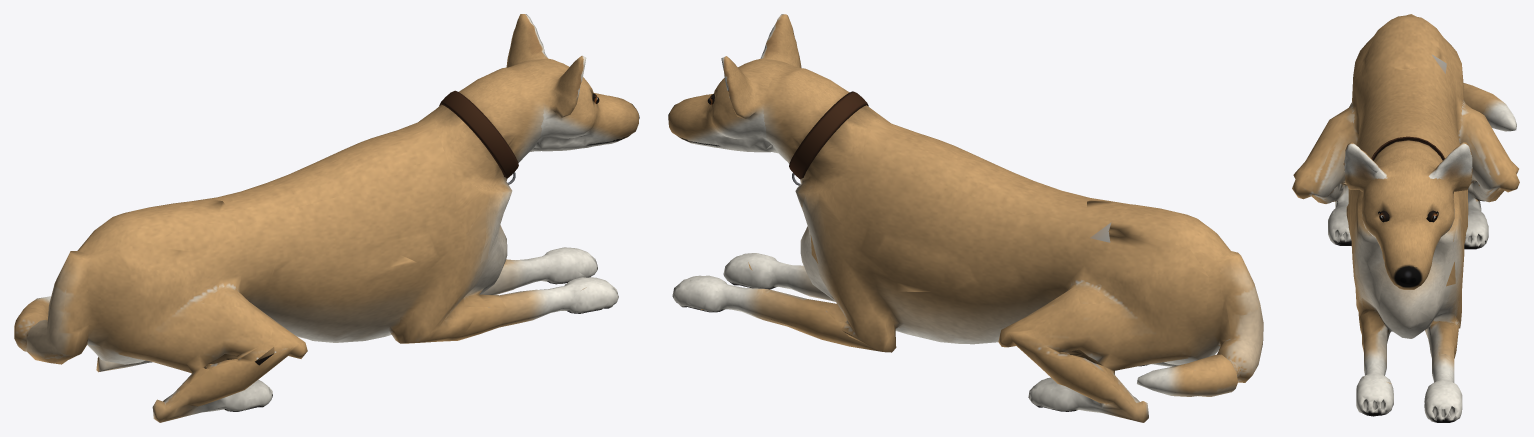
Rendered from dog_lie.glb.
The picture shows the model from 3 angles, left to right: view 1: azimuth 30°, elevation 25°; view 2: azimuth 150°, elevation 25°; view 3: azimuth 270°, elevation 25°; orthographic projection. The views are drawn at different scales.
Visible parts, largest first — view 1: dog_lie_mesh; view 2: dog_lie_mesh; view 3: dog_lie_mesh.
Part boxes in pixels (left/top/right/bottom): dog_lie_mesh: left=14, top=14, right=639, bottom=422; dog_lie_mesh: left=668, top=14, right=1263, bottom=422; dog_lie_mesh: left=1292, top=14, right=1519, bottom=422.
Bounding box in the file's own units: 0.8926 × 0.3801 × 0.3064.
1 material, 1 textured.
